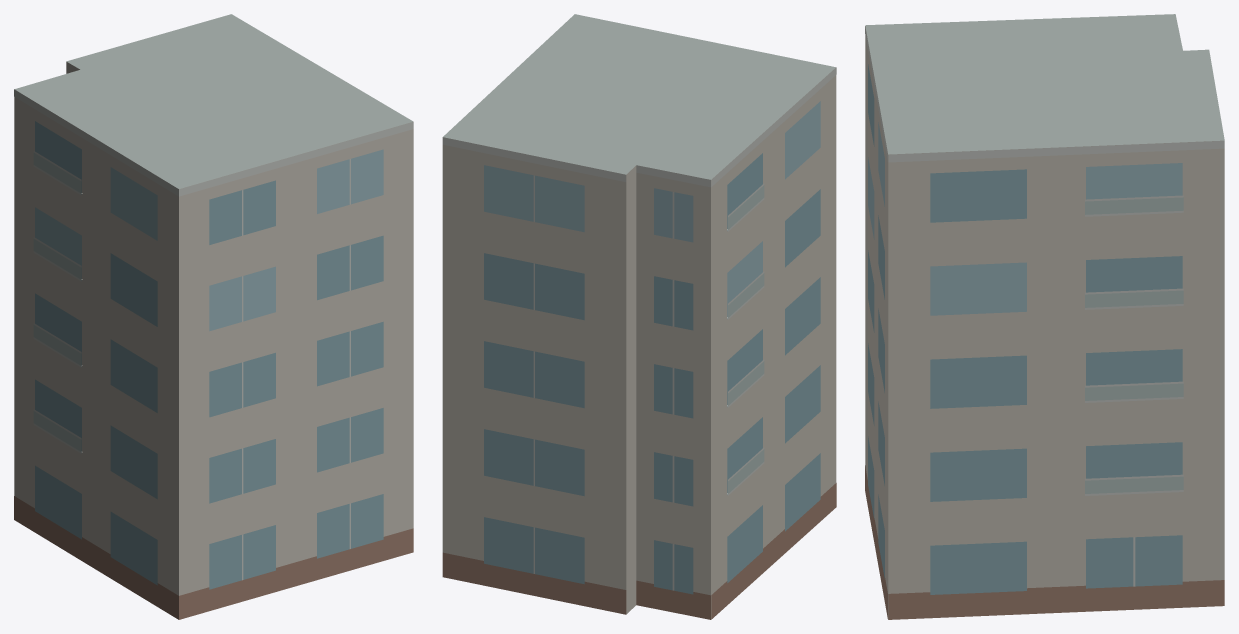
The model's file is survey-upis-32701427.glb.
3 renders of one model, left to right at view 1: azimuth 30°, elevation 25°; view 2: azimuth 150°, elevation 25°; view 3: azimuth 270°, elevation 25°, orthographic. The views are drawn at different scales.
Parts seen in each view (by area): view 1: survey-upis-32701427.tmp; view 2: survey-upis-32701427.tmp; view 3: survey-upis-32701427.tmp.
Boxes of the visible parts, x1,y1,x2,y2 form: survey-upis-32701427.tmp: (14,14,413,619); survey-upis-32701427.tmp: (442,14,836,619); survey-upis-32701427.tmp: (865,14,1224,619).
Bounding box in the file's own units: 9.2 × 14.2 × 9.96.
